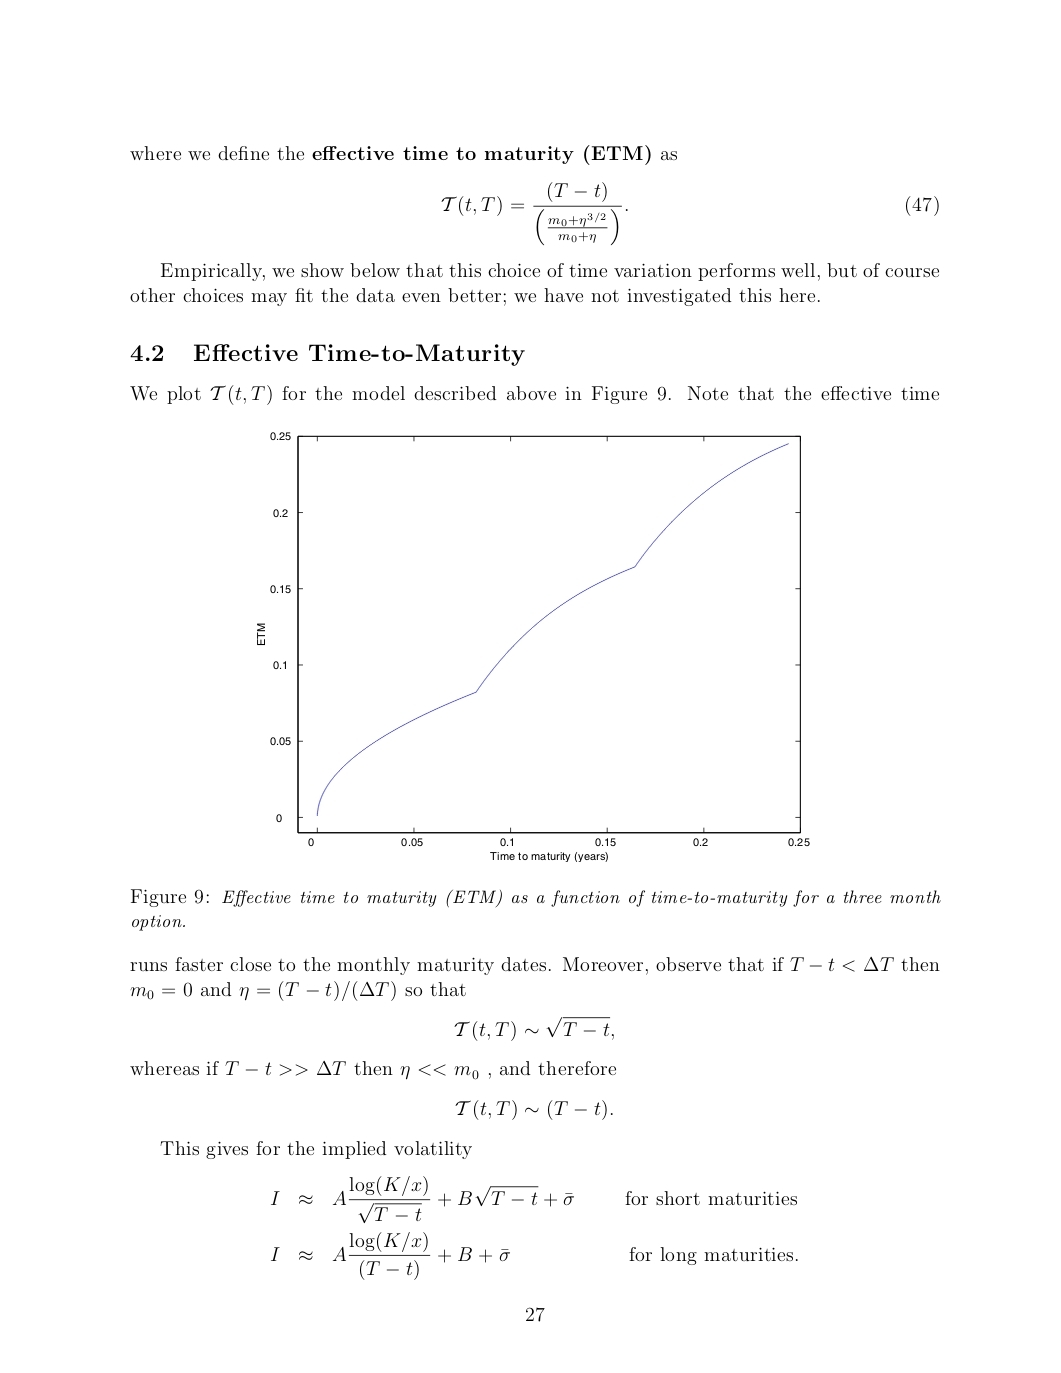figure: (257, 432, 809, 861)
formula: (441, 181, 938, 246), (270, 1231, 797, 1281), (270, 1175, 796, 1224), (454, 1015, 613, 1041), (455, 1099, 612, 1120)
